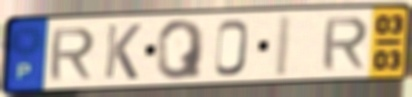0: (213, 18, 251, 78)
I: (271, 13, 295, 79)
K: (101, 22, 143, 82)
Q: (154, 18, 207, 82)
R: (46, 25, 98, 83), (319, 15, 371, 72)
